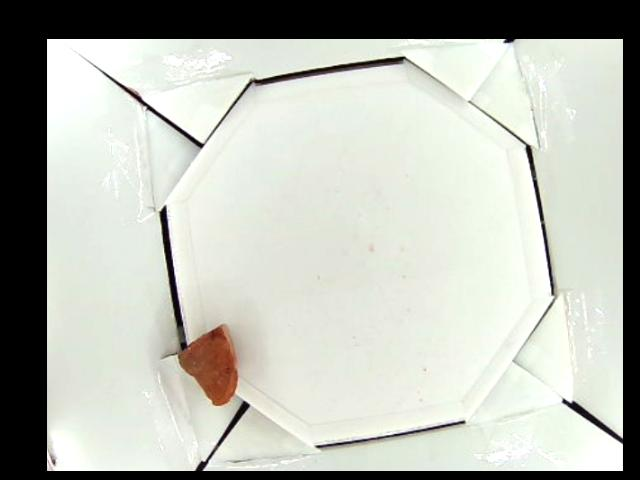Brisk: (175, 326, 240, 408)
